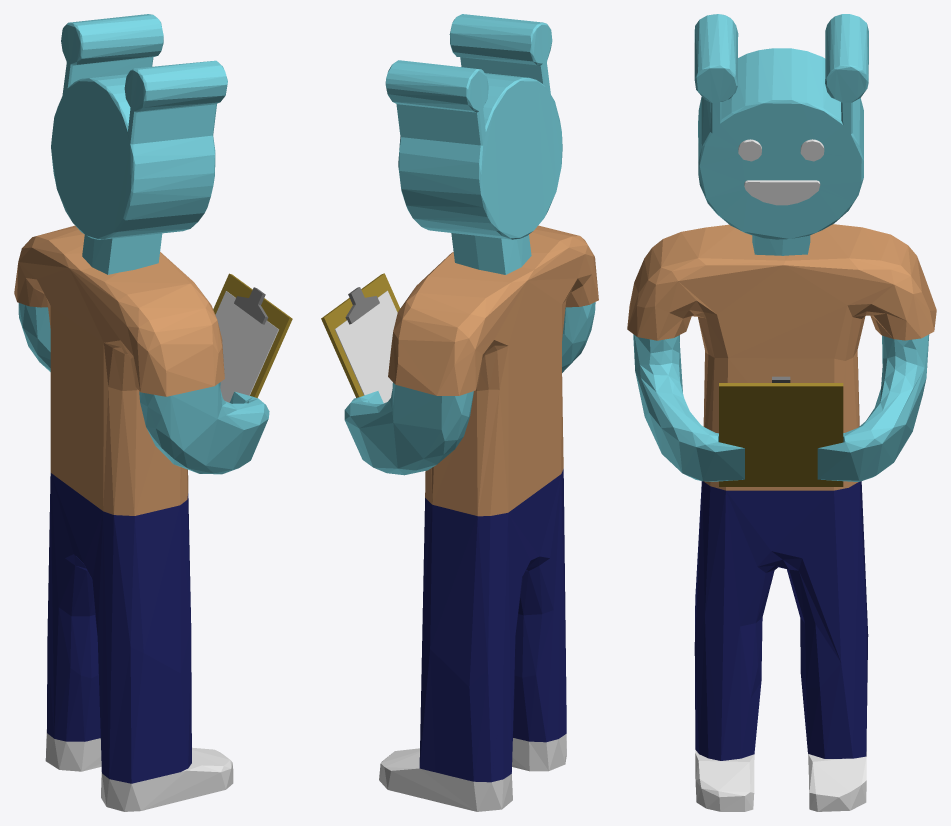
File: zulLowPolyFIX2.fbx
3 renders of one model, left to right at view 1: azimuth 30°, elevation 25°; view 2: azimuth 150°, elevation 25°; view 3: azimuth 270°, elevation 25°, orthographic. The views are drawn at different scales.
Parts seen in each view (by area): view 1: body, head, prancheta; view 2: body, head, prancheta; view 3: body, head, prancheta.
Boxes of the visible parts, x1=… form: body: x1=14, y1=225, x2=269, y2=811; head: x1=51, y1=14, x2=227, y2=274; prancheta: x1=213, y1=273, x2=292, y2=402; body: x1=344, y1=225, x2=598, y2=811; head: x1=385, y1=14, x2=562, y2=274; prancheta: x1=321, y1=273, x2=400, y2=403; body: x1=627, y1=224, x2=936, y2=811; head: x1=694, y1=14, x2=868, y2=255; prancheta: x1=719, y1=376, x2=843, y2=486.
Bounding box in the file's own units: 1300 × 4911 × 1837.
